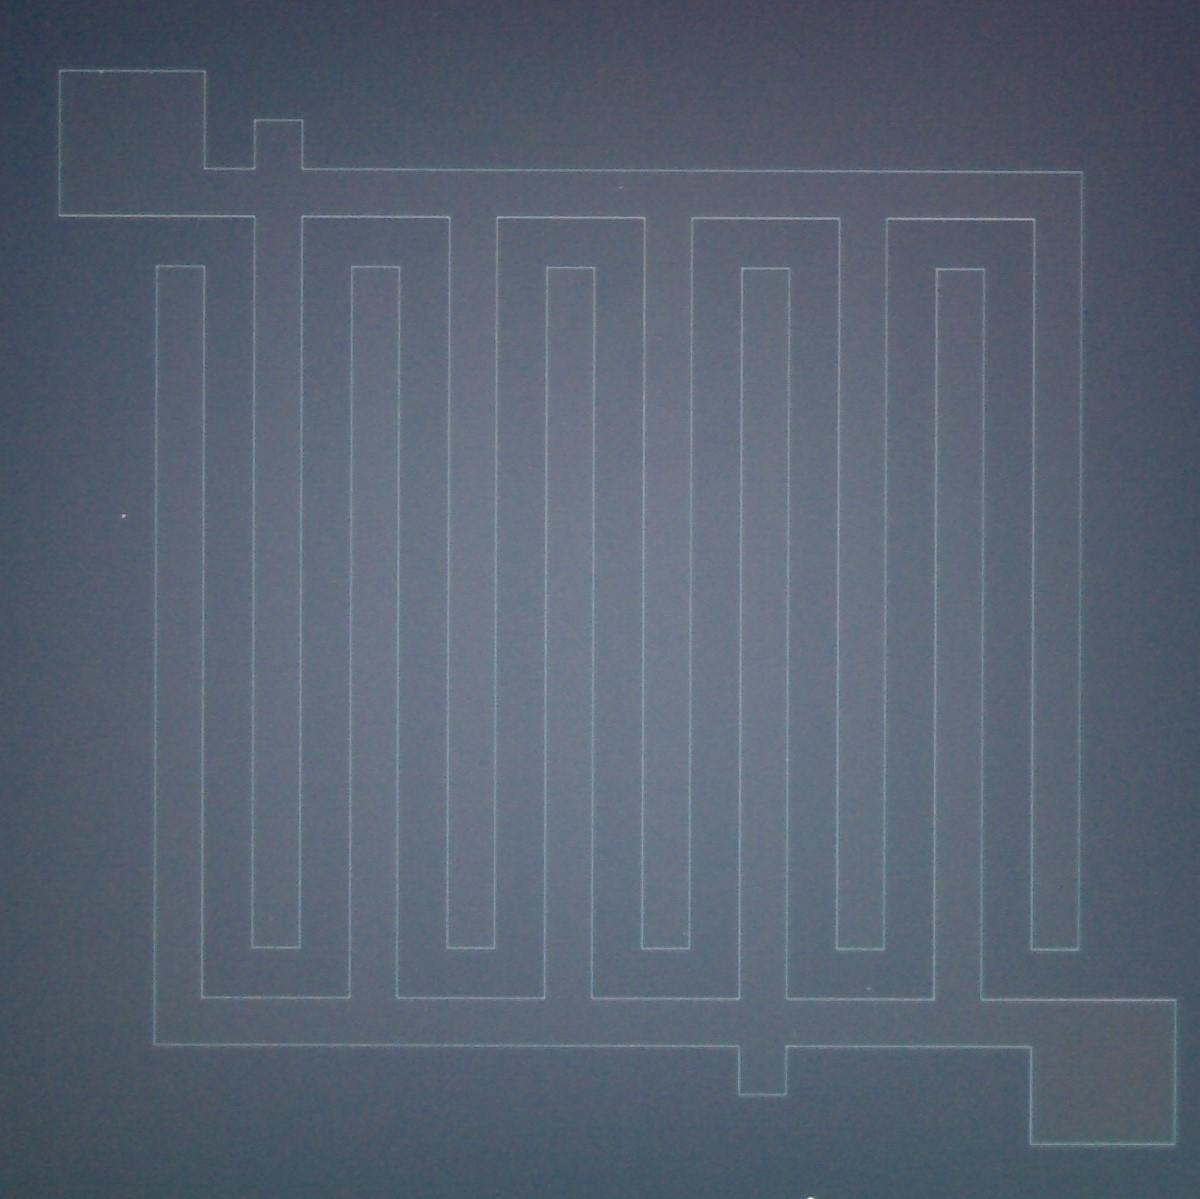B_point: (803, 1184, 819, 1199)
project: (713, 1027, 811, 1105), (239, 107, 321, 183)
s_point: (860, 981, 877, 997), (115, 508, 132, 525), (613, 180, 629, 195), (93, 66, 109, 80)
